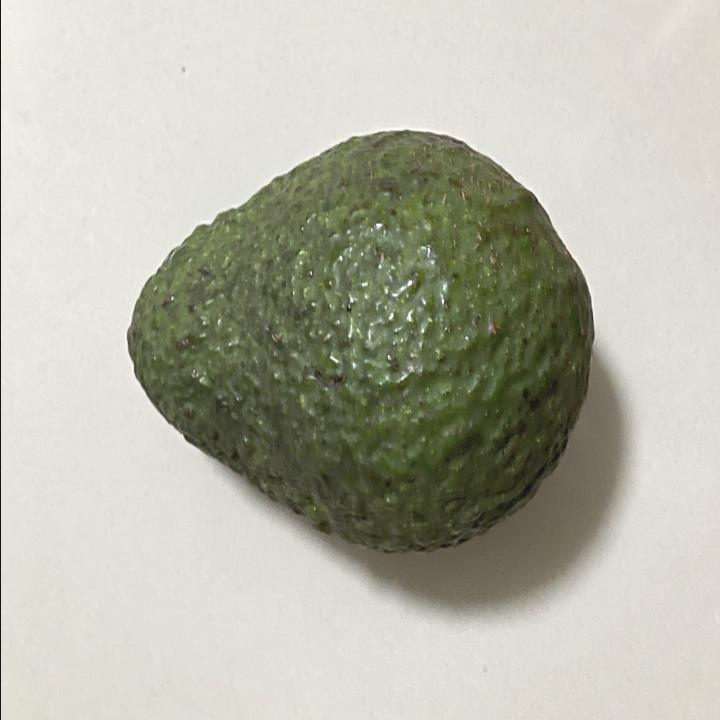Level1: (102, 107, 608, 578)
